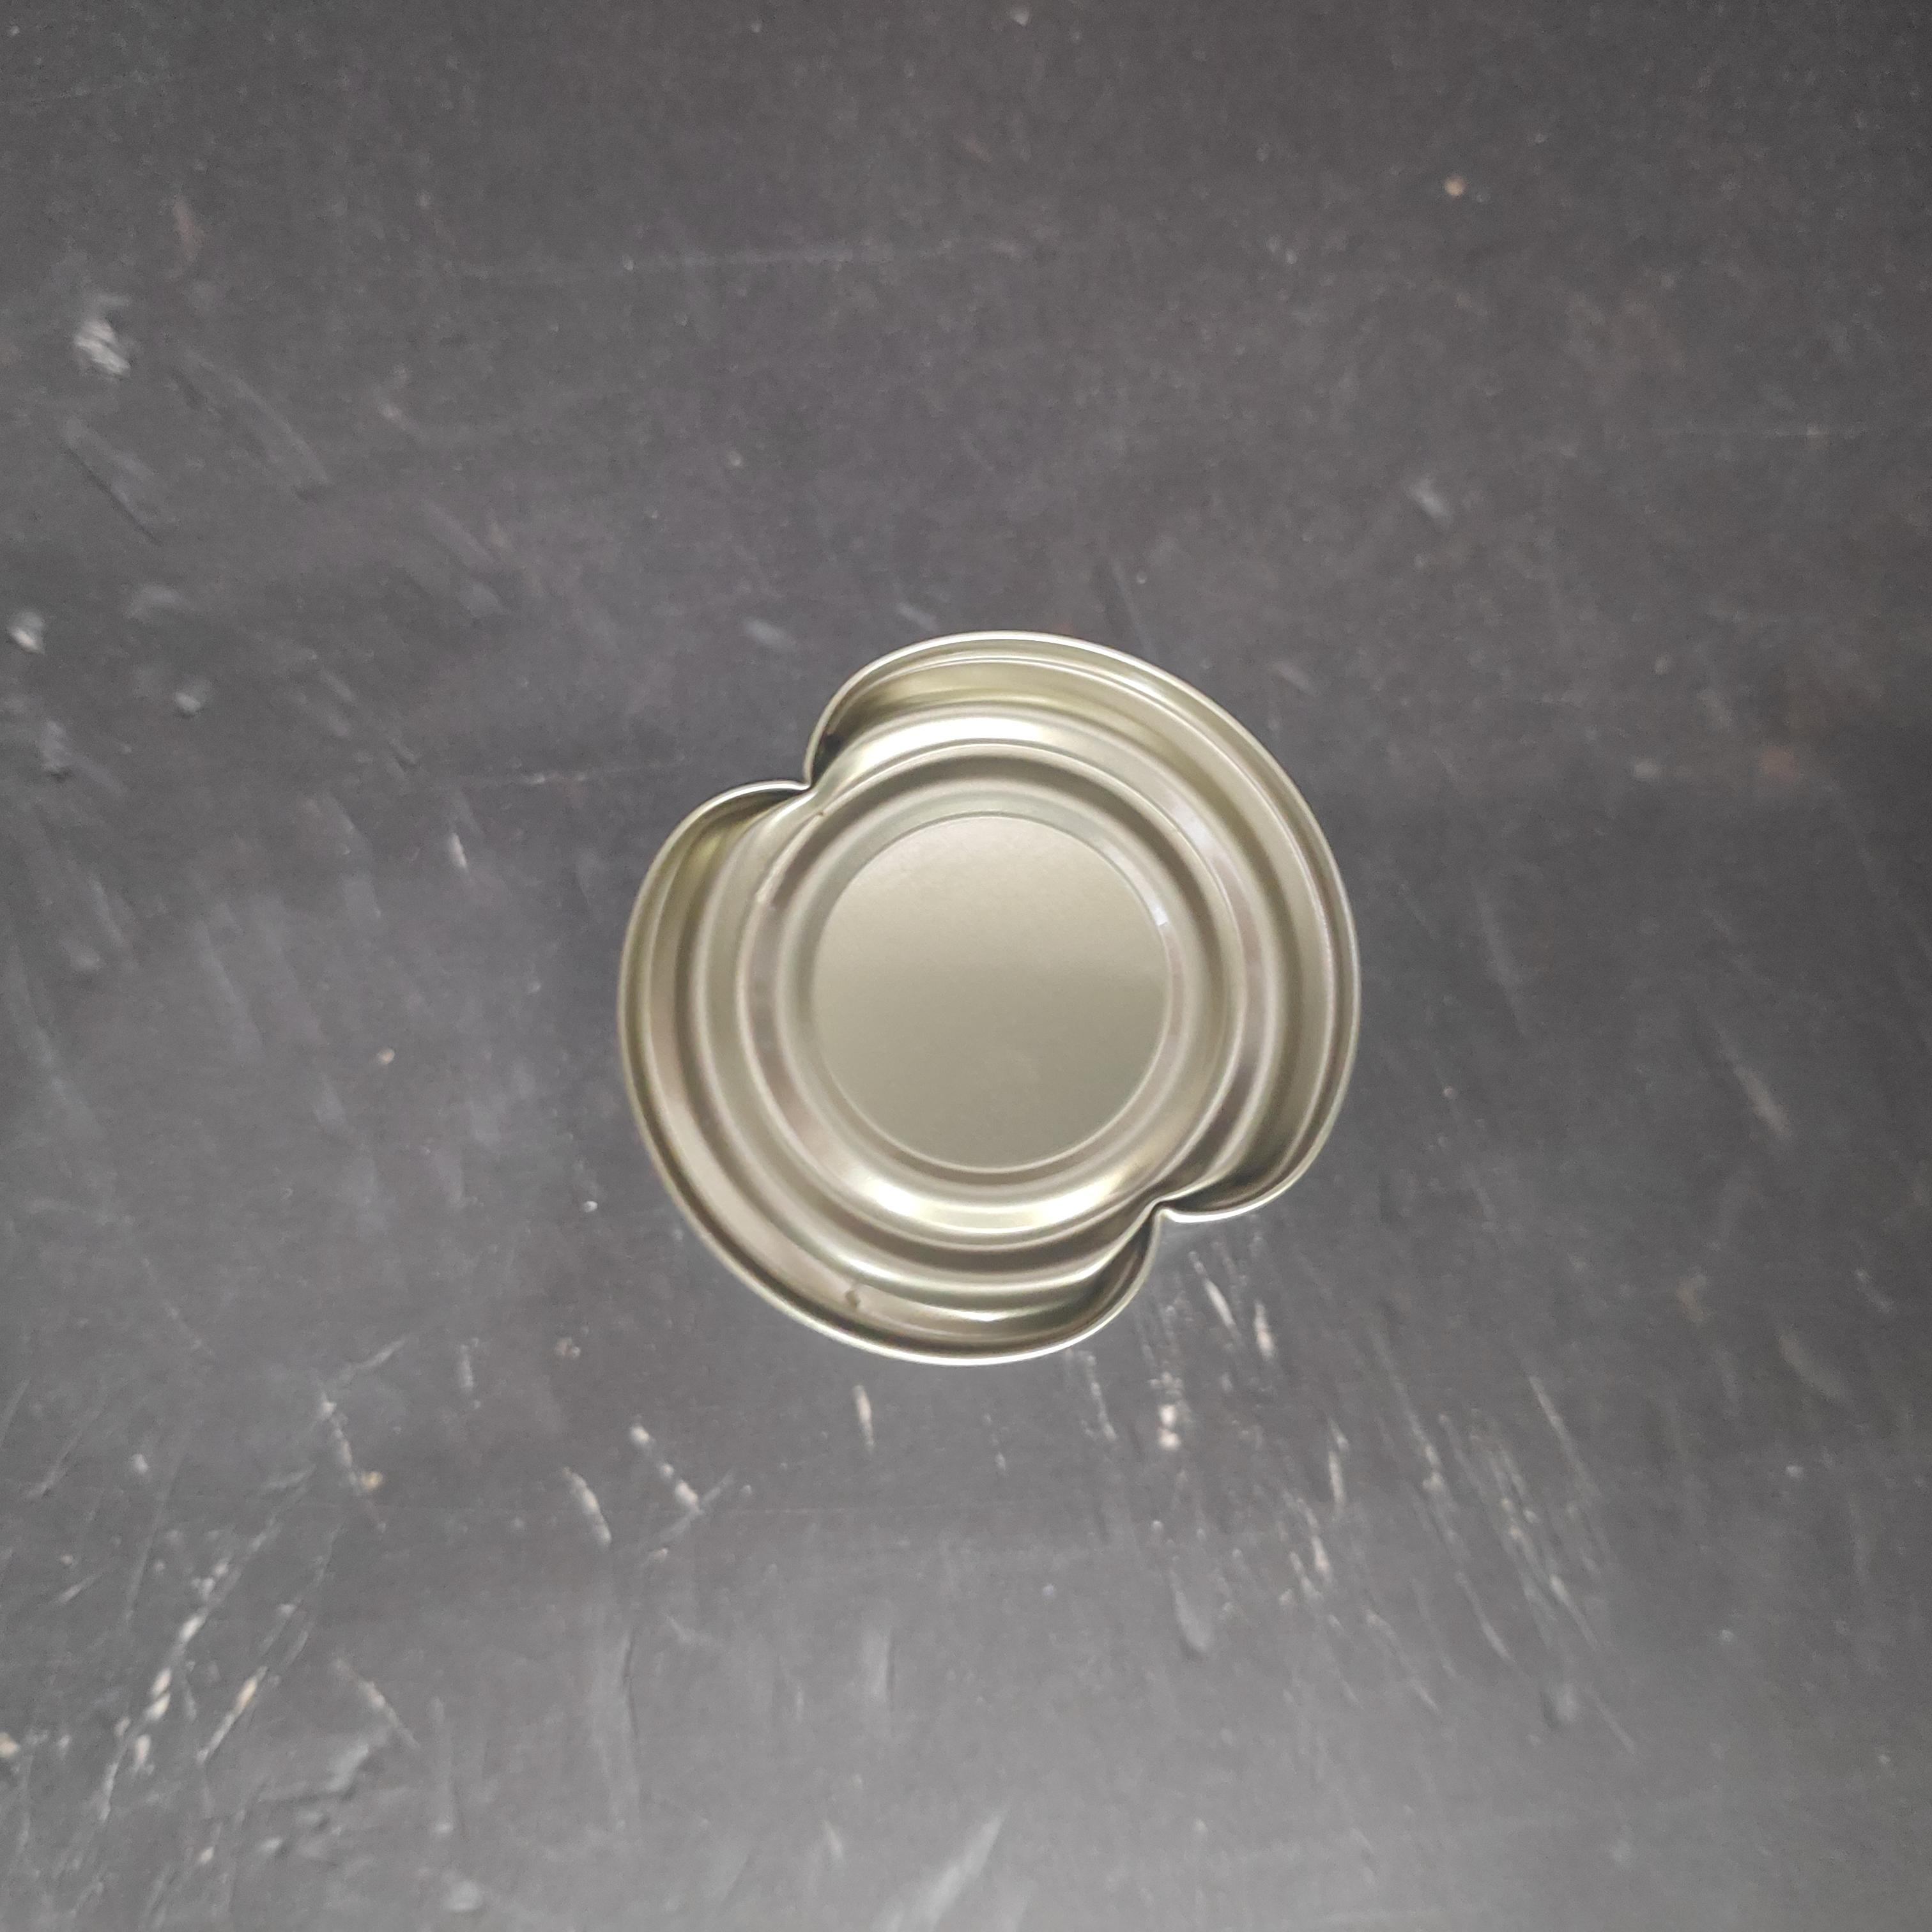Critical Defect: (560, 604, 1312, 1374)
